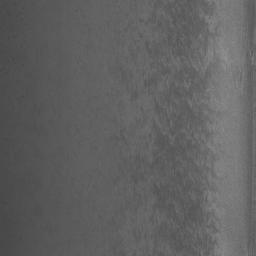Silk spot: (99, 0, 224, 256)
